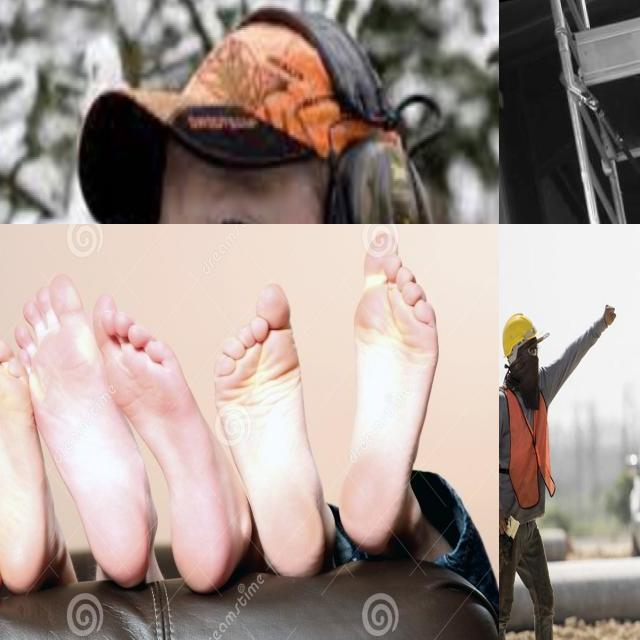Barefoots: (12, 249, 163, 592), (95, 297, 236, 603), (333, 228, 452, 573), (209, 275, 338, 593), (0, 319, 61, 604)
Ear-protection: (84, 3, 471, 224)
No_Glasses: (153, 171, 289, 224)
hand_noglove: (602, 289, 620, 332), (499, 510, 511, 542)
head_helmet: (502, 311, 537, 355)
person: (499, 296, 599, 640)
vest: (499, 380, 558, 529)
